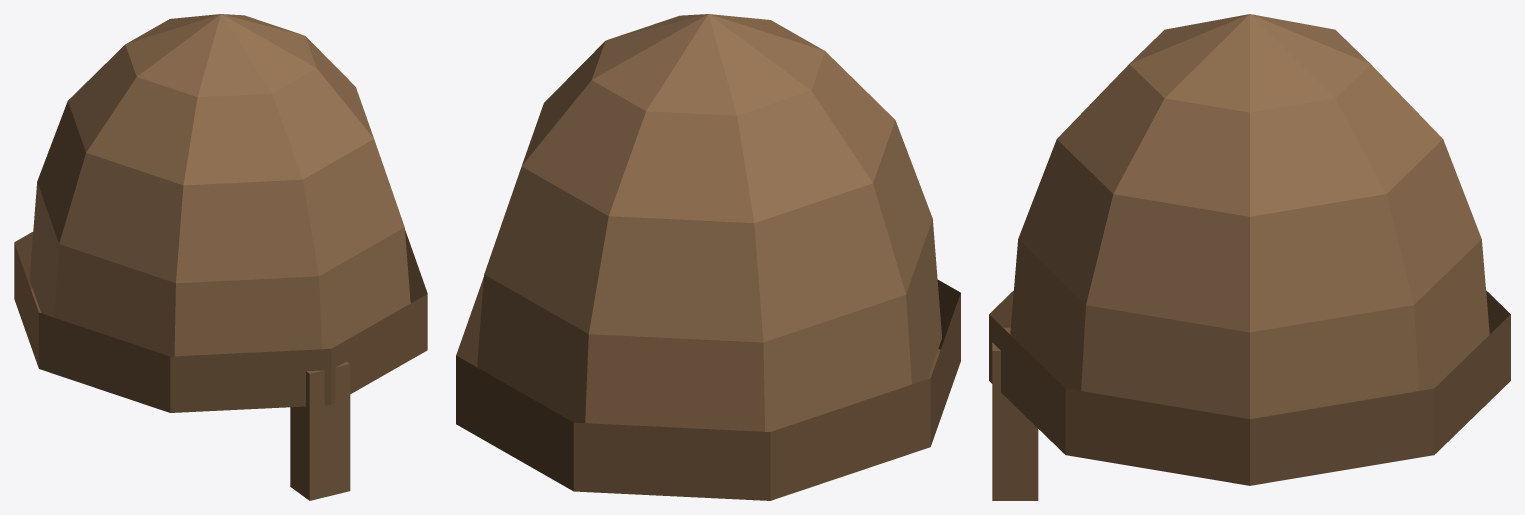
The model's file is helm_copper.glb.
3 views of the same model, side by side, from view 1: azimuth 30°, elevation 25°; view 2: azimuth 150°, elevation 25°; view 3: azimuth 270°, elevation 25° (orthographic). The views are drawn at different scales.
Visible parts, largest first — view 1: helm_copper; view 2: helm_copper; view 3: helm_copper.
Part boxes in pixels (<box>): helm_copper: <box>14,14,427,500</box>; helm_copper: <box>456,14,960,500</box>; helm_copper: <box>989,14,1510,500</box>.
Bounding box in the file's own units: 0.27 × 0.285 × 0.2835.
1 material, 1 textured.
